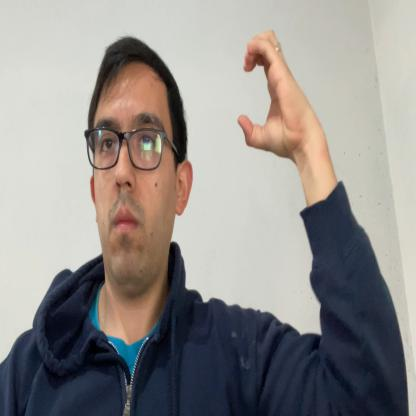C: (237, 29, 299, 159)
